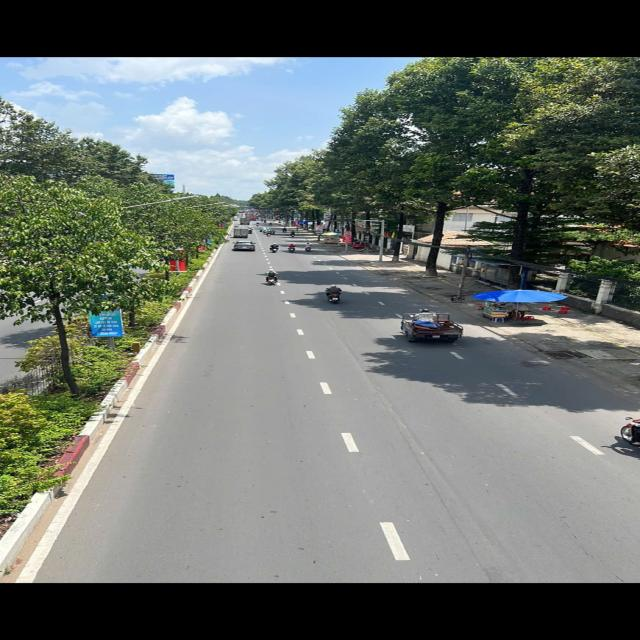ben: (231, 225, 251, 240), (240, 216, 254, 227)
car: (230, 239, 258, 252)
motobyte: (322, 284, 345, 304), (265, 268, 281, 286), (270, 241, 280, 254), (287, 243, 298, 254), (304, 241, 314, 252), (290, 230, 298, 239), (265, 230, 274, 237), (282, 227, 288, 233), (255, 222, 261, 227)
